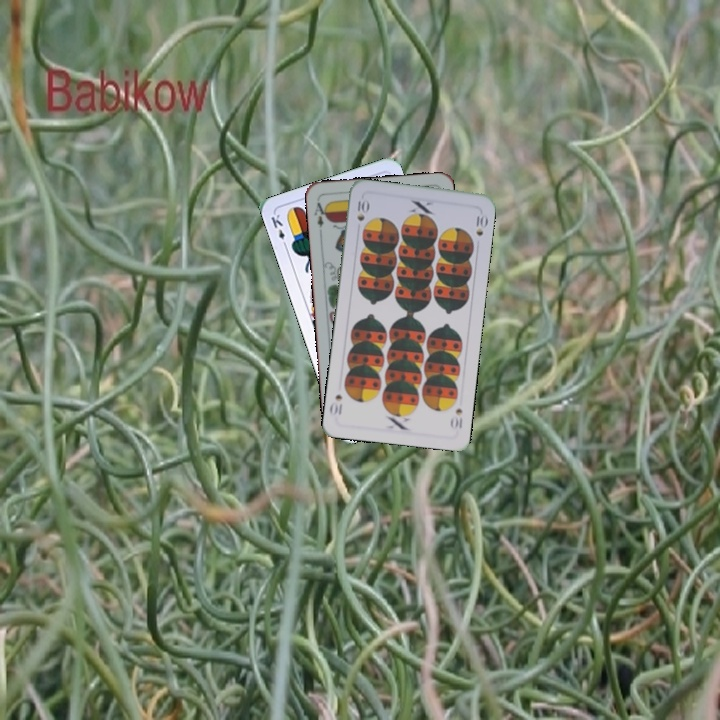EA: (310, 196, 330, 237)
EK: (267, 210, 290, 250)
S10: (447, 404, 465, 433), (353, 195, 370, 223)
